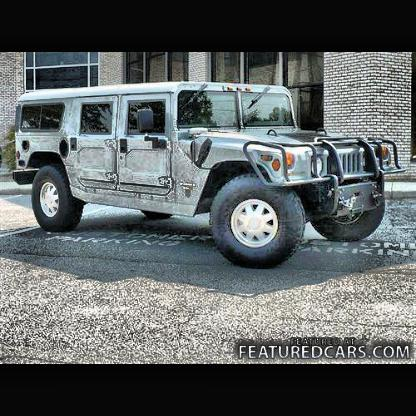AM General Hummer SUV 2000: (10, 79, 408, 274)
